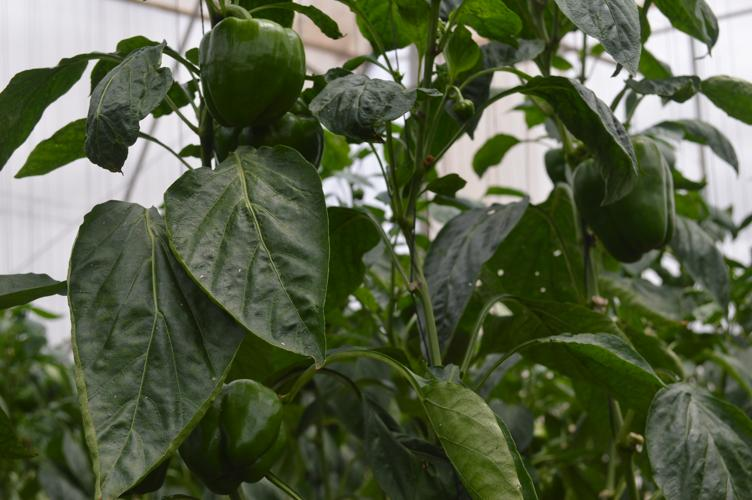BellPepper: (563, 136, 674, 265), (161, 382, 285, 489), (192, 19, 305, 119), (210, 114, 317, 163)
